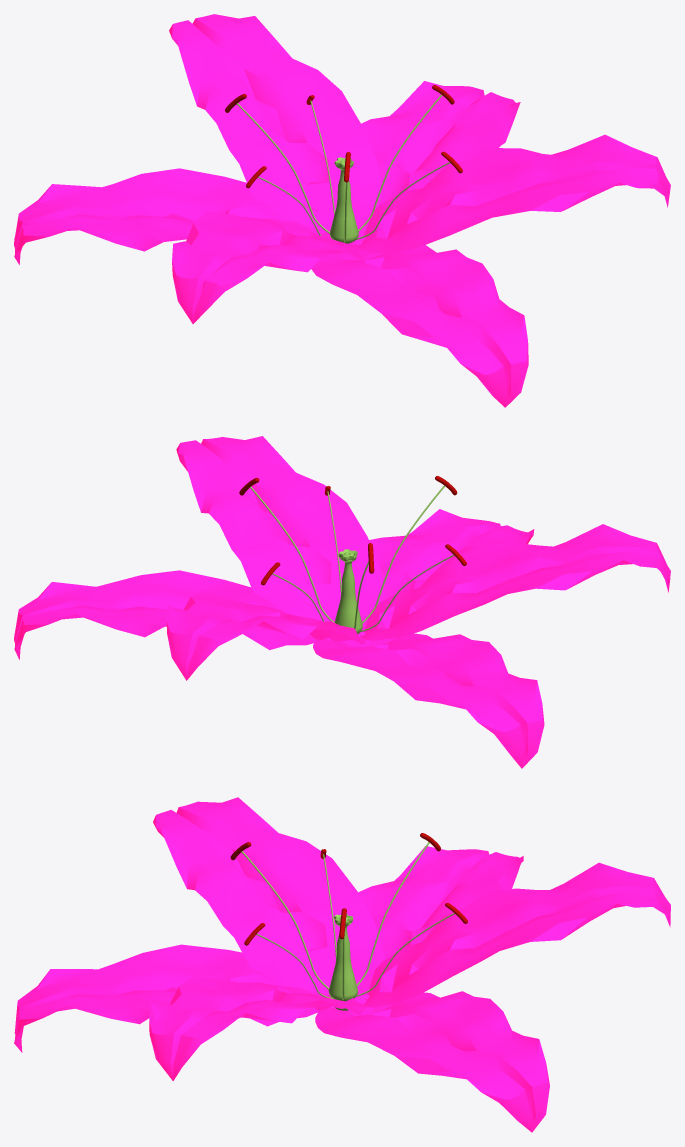
Rendered from Flower.fbx.
3 views of the same model, one above another, from view 1: azimuth 30°, elevation 25°; view 2: azimuth 150°, elevation 25°; view 3: azimuth 270°, elevation 25° (orthographic).
Parts seen in each view (by area): view 1: Side, Pestik; view 2: Side, Pestik, tichynka; view 3: Side, Pestik, tichymka, tichynka.
Part boxes in pixels (x1,y1,x2,y2): Side: (14,14,670,407); Pestik: (330,157,358,243); Side: (14,436,670,768); Pestik: (334,549,362,633); tichynka: (362,476,457,623); Side: (14,797,670,1132); Pestik: (328,914,357,1010); tichymka: (356,833,440,986); tichynka: (230,842,329,989).
Bounding box in the file's own units: 1626 × 566 × 1790.
